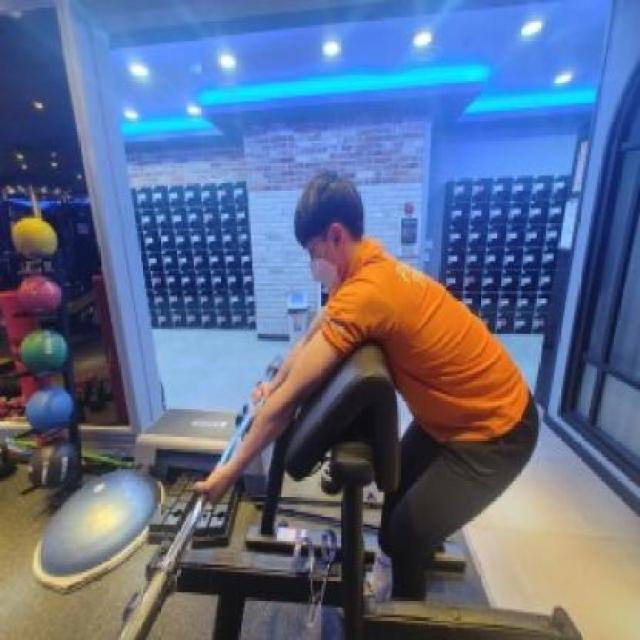arm curl machine: (149, 344, 466, 640)
